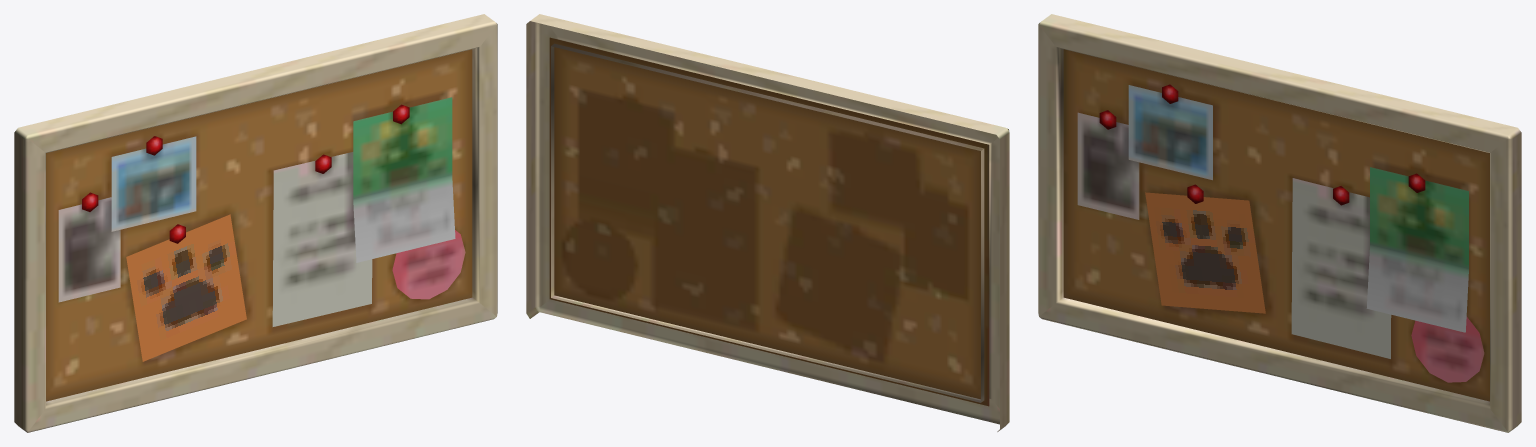
Rendered from rmk_oth_cork.dae.
The picture shows the model from 3 angles, left to right: view 1: azimuth 30°, elevation 25°; view 2: azimuth 150°, elevation 25°; view 3: azimuth 330°, elevation 25°; orthographic projection.
Parts seen in each view (by area): view 1: rmk_oth_cork; view 2: rmk_oth_cork; view 3: rmk_oth_cork.
Boxes of the visible parts, x1,y1,x2,y2 form: rmk_oth_cork: (14, 14, 497, 432); rmk_oth_cork: (526, 14, 1009, 431); rmk_oth_cork: (1038, 14, 1521, 432).
Bounding box in the file's own units: 50 × 30.09 × 2.13.
Materials: 2 (2 with a texture image).
